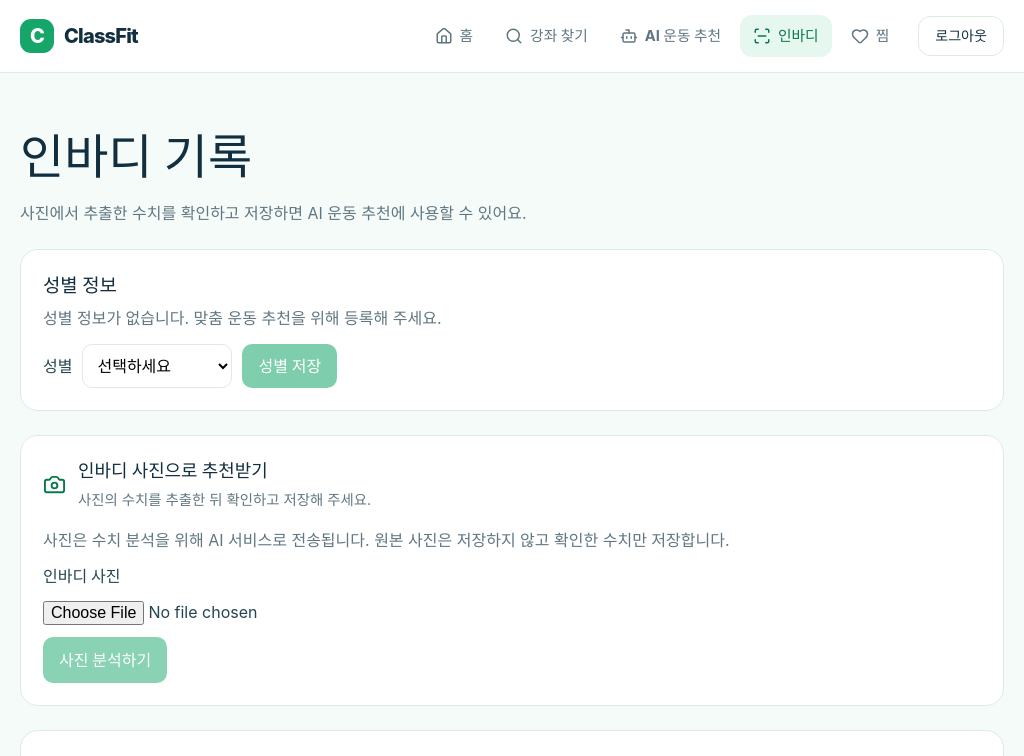
Scenario: App › saves_missing_gender_from_inbody_page_and_updates_member_state
Select "여성" in the dropdown labelled "성별" at (158, 366), box [82,344,232,388]
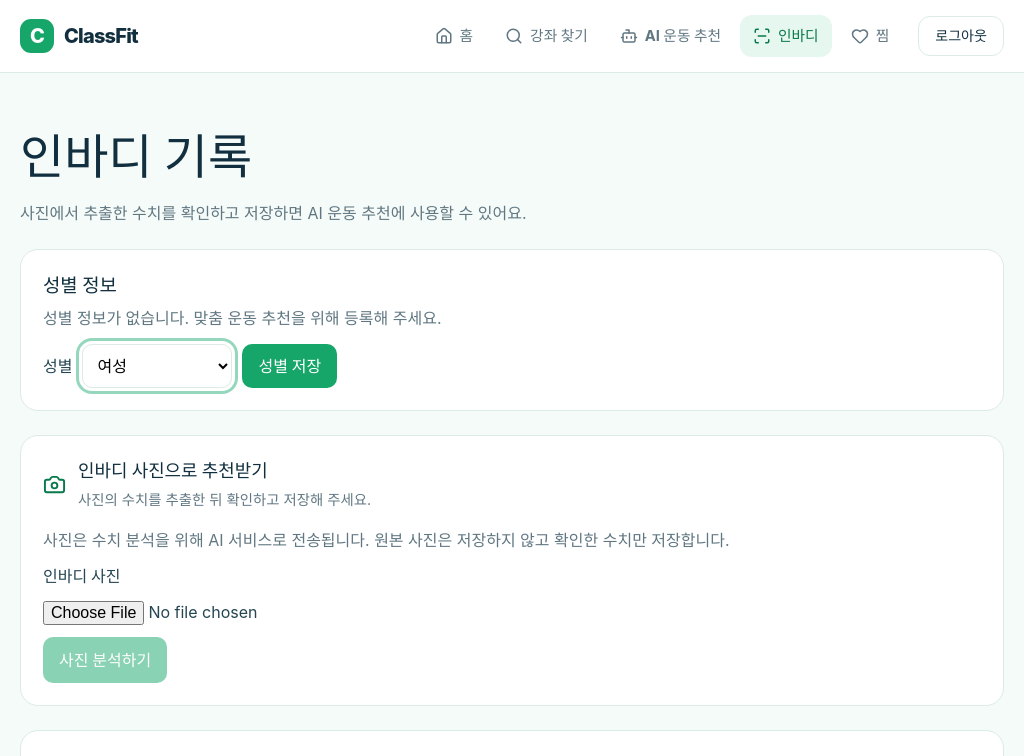
Click the button "성별 저장" at (290, 366), box [242,344,337,388]
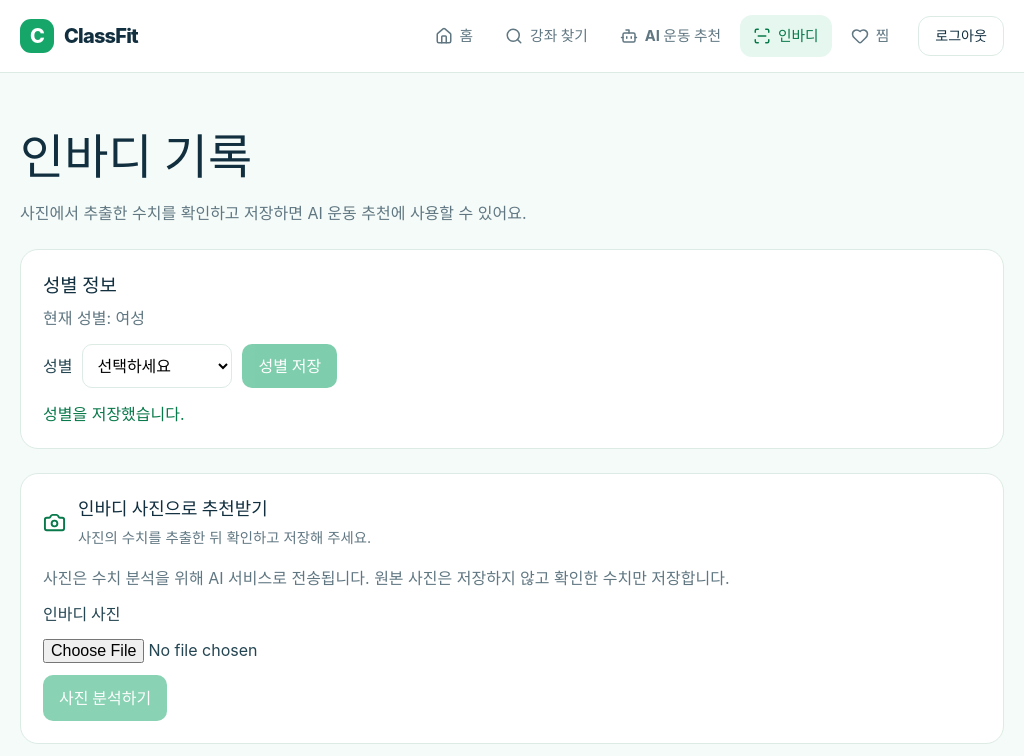
Expected: the text "현재 성별: 여성" is shown, [43,308,145,328]
